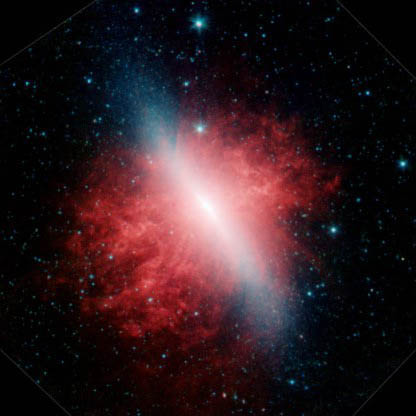Messier 82: (48, 26, 354, 391)
